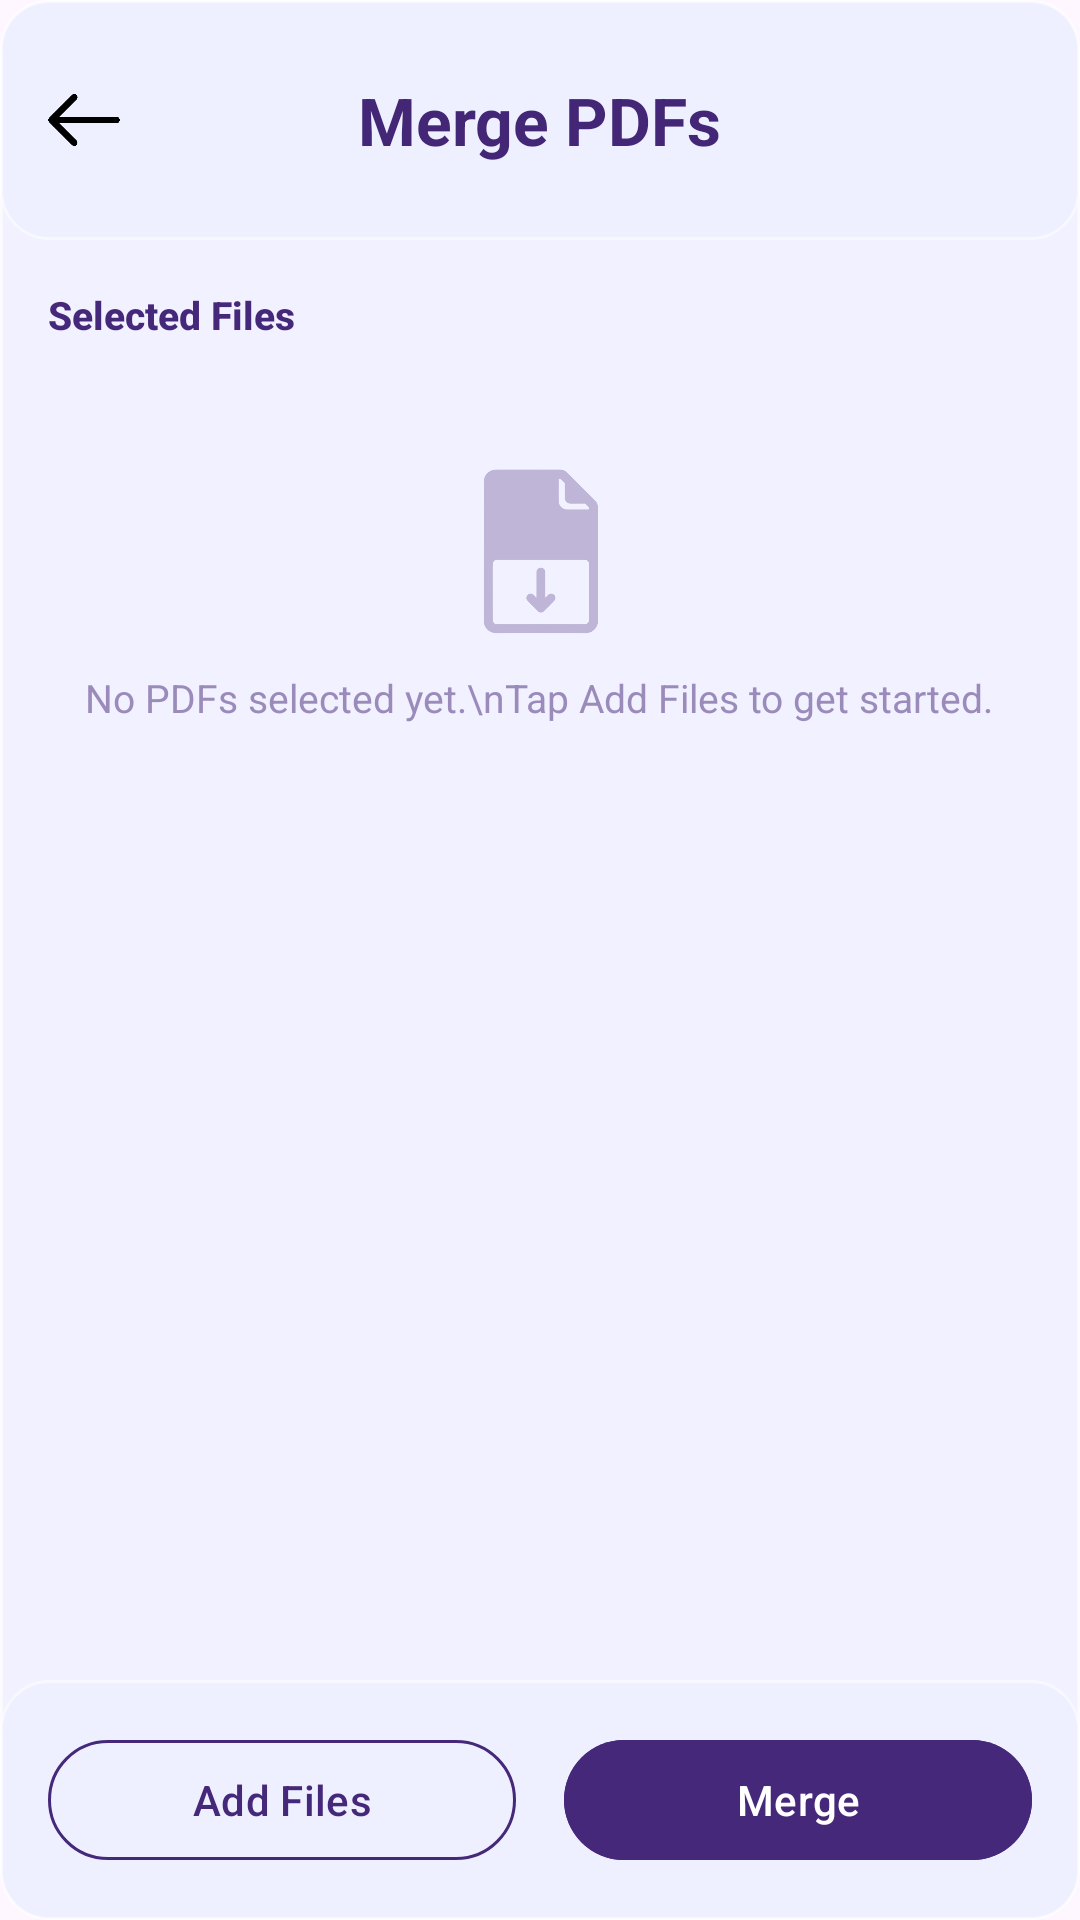

Named icons in this screenshot (1080px x 1920px) and their centers, [x,y]:
Back: [84,120]
